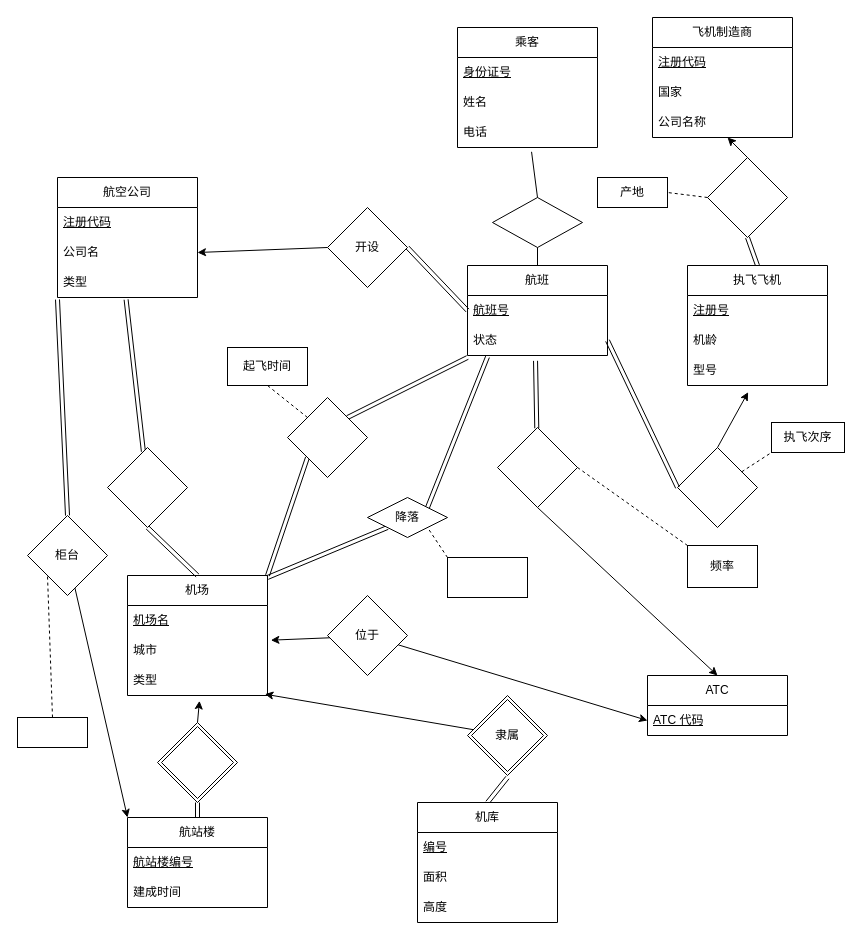
Image size: 862x940. Some labels were removed from this diagram. Here are the shapes that lost their labels. From the top down, the centre of each, then its label:
At (747,197): "制造".
At (537,222): "乘坐".
At (327,437): "起飞".
At (147,487): "驻扎".
At (537,467): "管控".
At (717,487): "执飞".
At (487,577): "降落时间".
At (52,732): "柜台号".
At (197,762): "组成".
